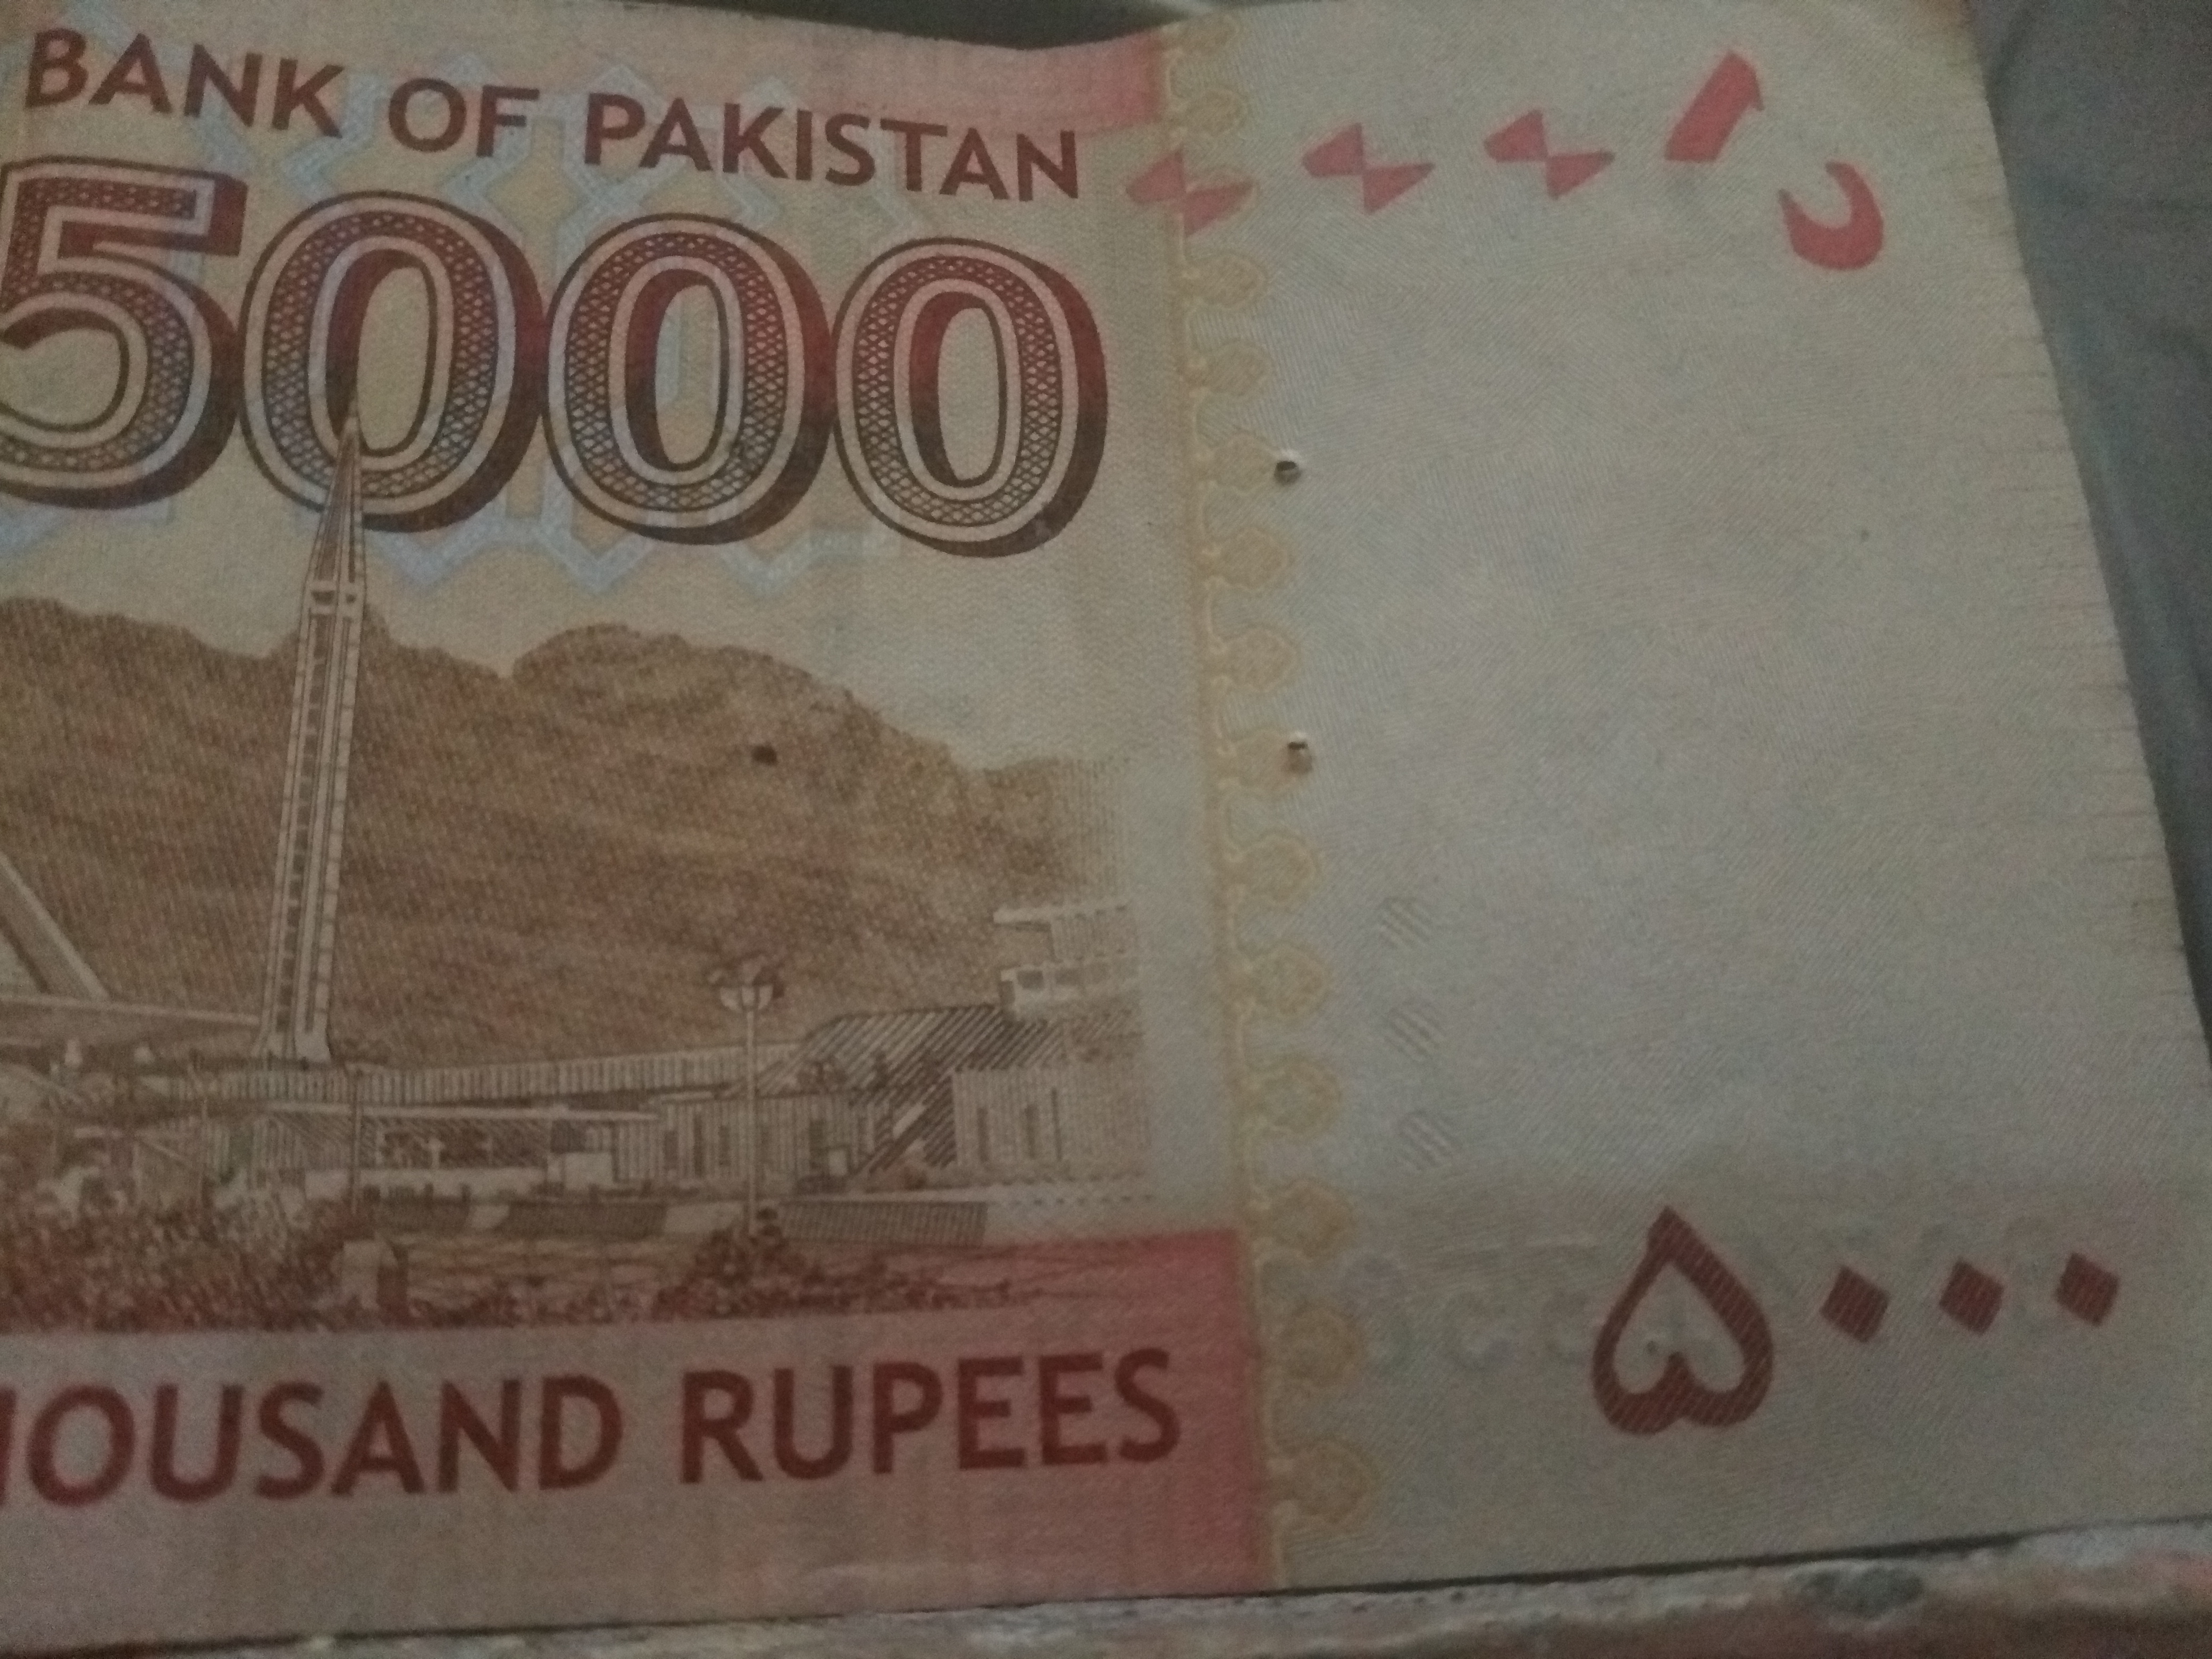5000 rupee: (37, 45, 2168, 1605)
